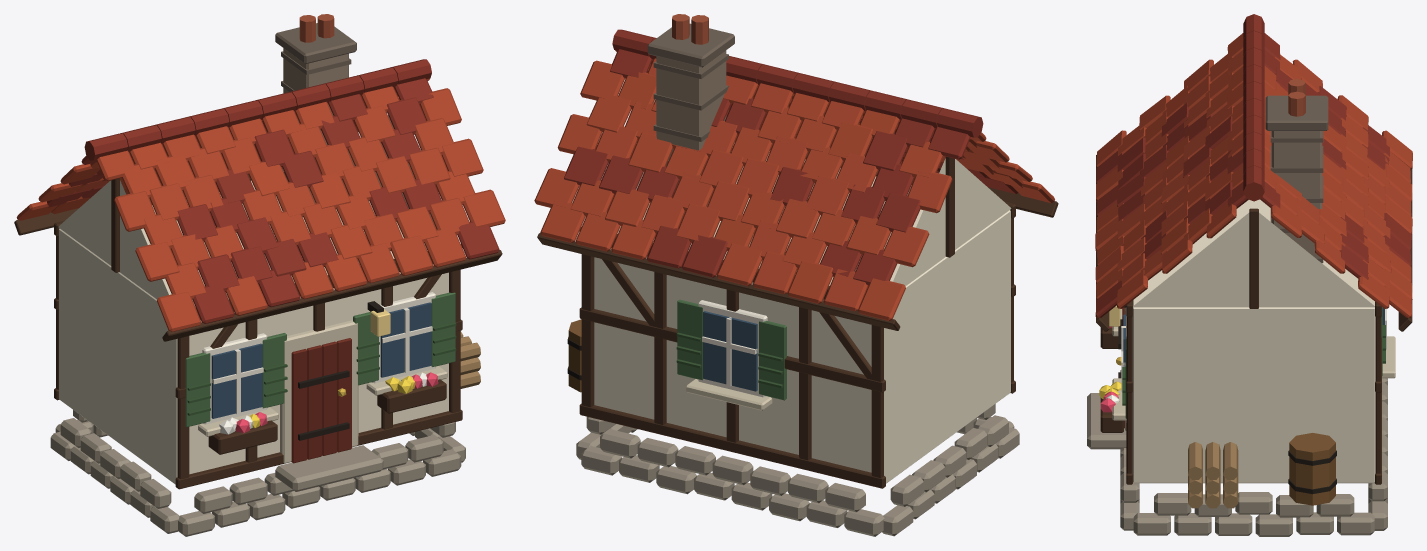
The model's file is house_eu.glb.
The picture shows the model from 3 angles, left to right: view 1: azimuth 30°, elevation 25°; view 2: azimuth 150°, elevation 25°; view 3: azimuth 270°, elevation 25°; orthographic projection. The views are drawn at different scales.
Visible parts, largest first — view 1: house_eu_1810; view 2: house_eu_1810; view 3: house_eu_1810.
Part boxes in pixels (bbox=[...]): house_eu_1810: bbox=[14, 14, 505, 536]; house_eu_1810: bbox=[534, 14, 1058, 536]; house_eu_1810: bbox=[1087, 14, 1412, 536].
Bounding box in the file's own units: 2.17 × 2.35 × 1.67.
